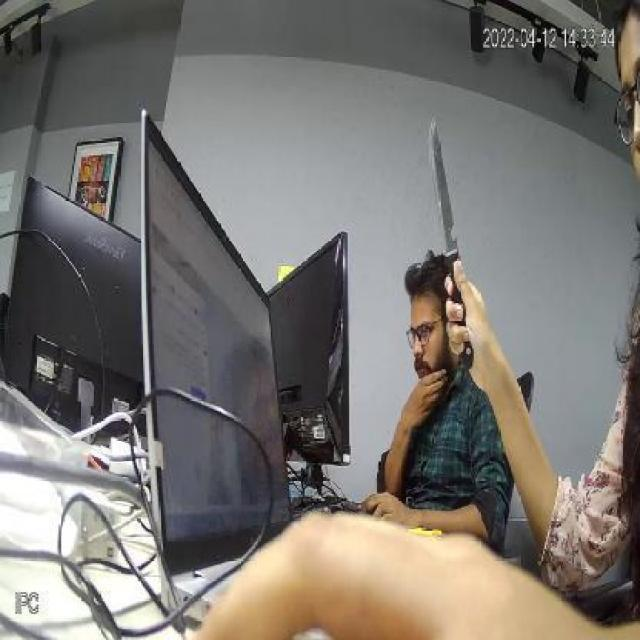-: (422, 120, 473, 280)
